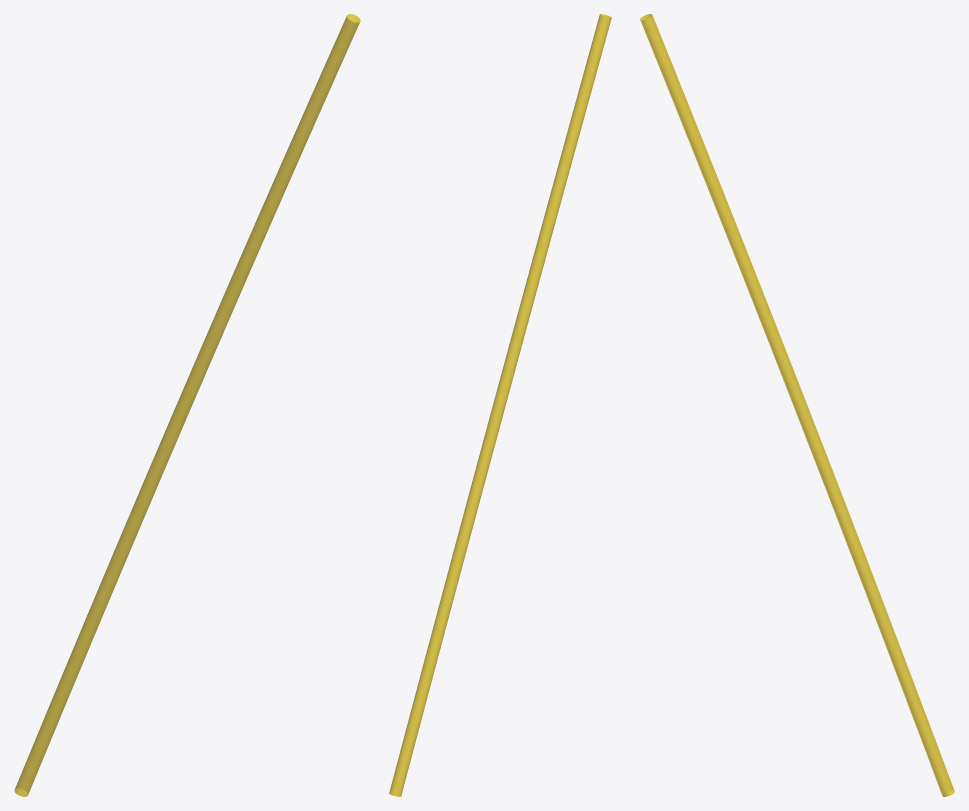
File: Event_31209032_track_5.fbx
3 renders of one model, left to right at view 1: azimuth 90°, elevation 25°; view 2: azimuth 150°, elevation 25°; view 3: azimuth 270°, elevation 25°, orthographic. The views are drawn at different scales.
Parts seen in each view (by area): view 1: Model; view 2: Model; view 3: Model.
Part boxes in pixels (<box>): Model: <box>14,14,360,796</box>; Model: <box>389,14,611,796</box>; Model: <box>640,14,954,796</box>.
Size of the model in its own units: 0.2962 by 2.46 by 0.9432.
